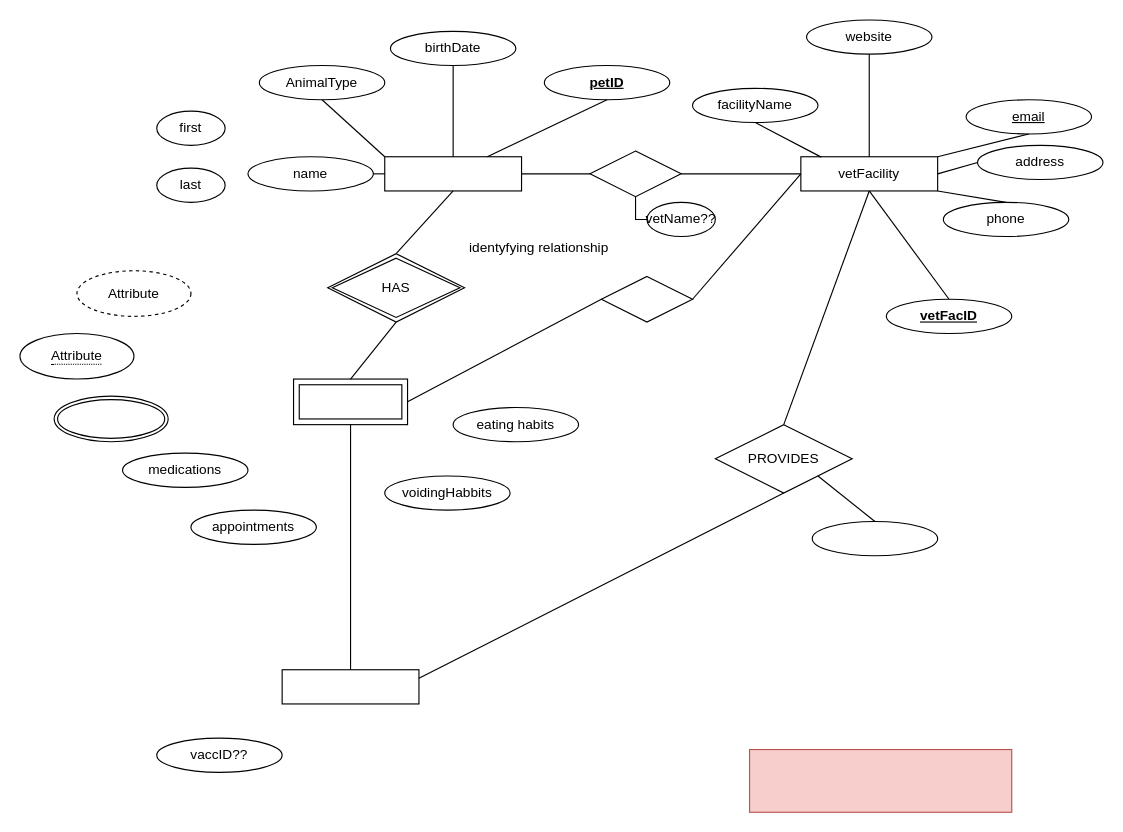
Some shapes in this 1123 by 832 pixel diagram are drawn without their labels. The shapes that lost their labels are listed below. From the top down, each one's centre as x and y in pixels, then its label:
the point at 453,173: pet
the point at 635,173: PREFFERED
the point at 646,298: TREATED
the point at 110,418: recentVitals
the point at 350,401: genHealth
the point at 874,538: date
the point at 350,686: vaccination
the point at 880,780: Paula Idea: Gives users note section for more details?
